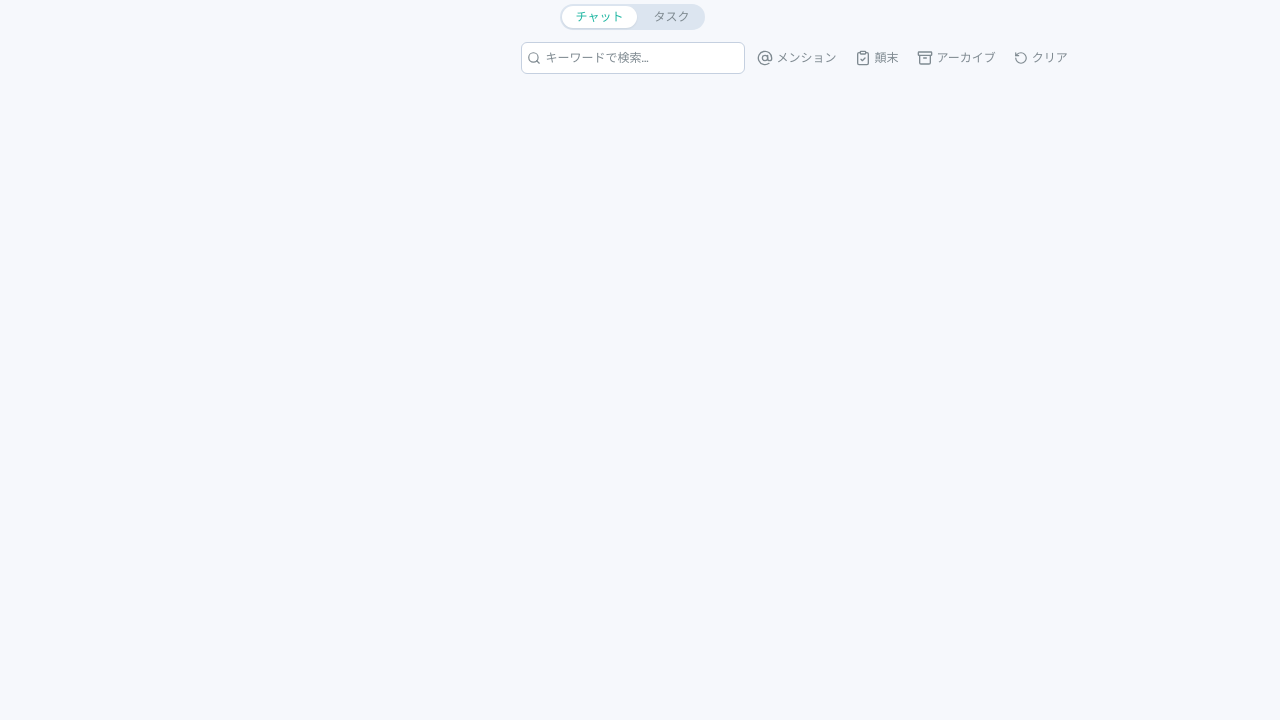
Test case: DeskFilterToolbar › チャット側メンションは配線済（From/To popover を開ける / rete-desk-0049）
Click the button "メンション" at [796, 58], box [750, 43, 842, 73]
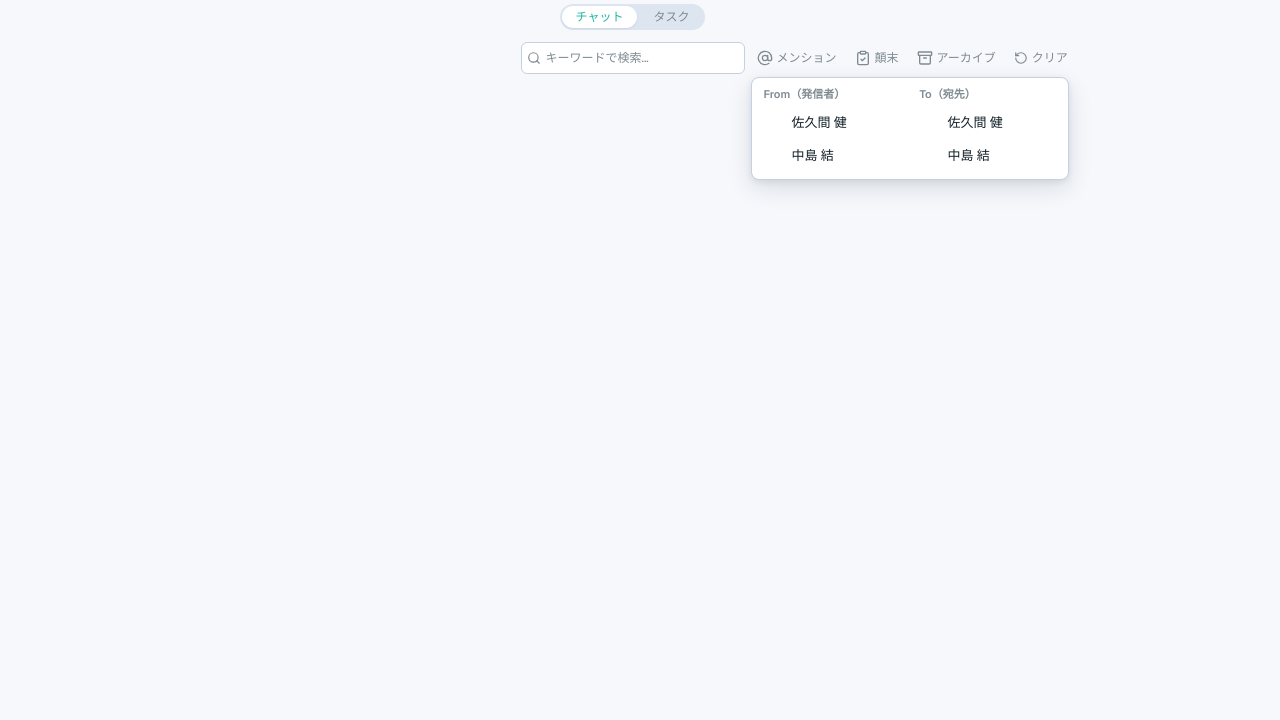
expect the list named "From（発信者）" is shown: met, box [792, 114, 847, 164]
expect the list named "To（宛先）" is shown: met, box [948, 114, 1003, 164]
